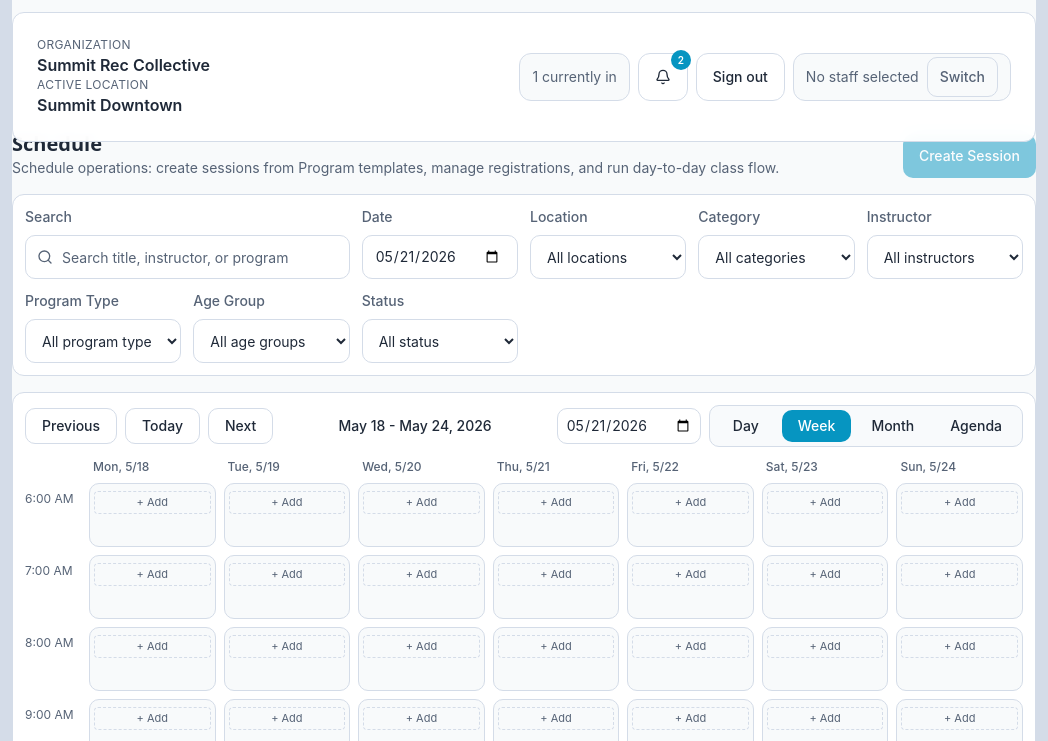
Test: Calendar interactive workstation › opens session detail from a visual block
Click the button "Agenda".
click(976, 426)  # box [934, 410, 1018, 442]
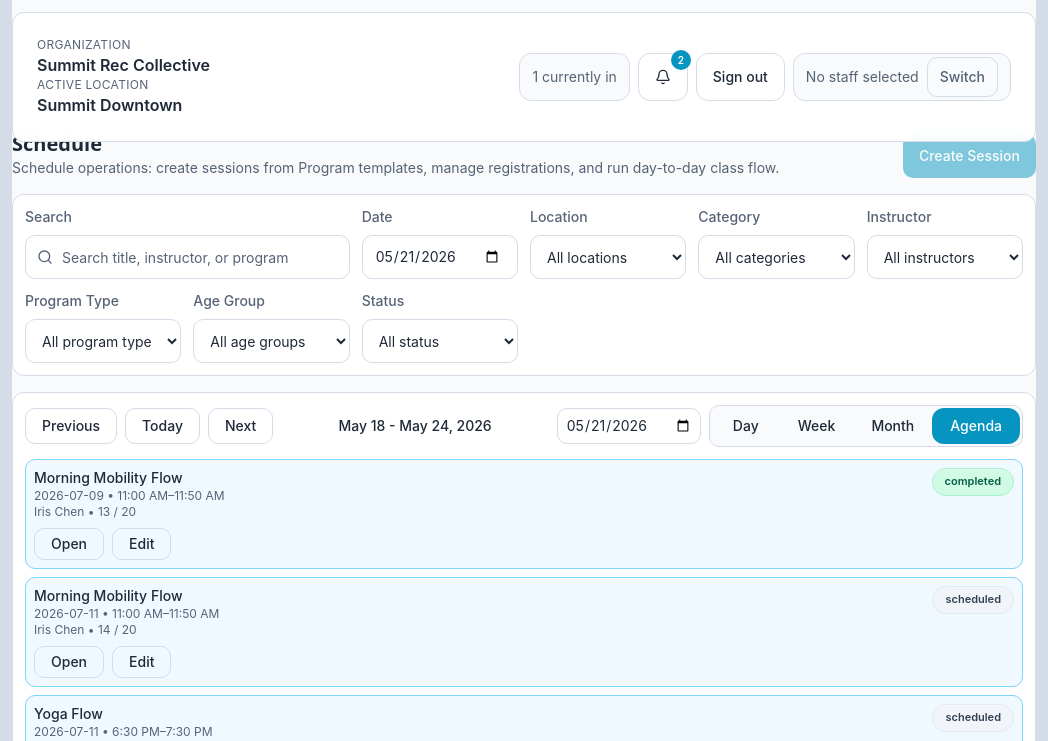
Click the button "Open" below "2026-07-09".
click(69, 544)  # box [34, 528, 104, 560]
(page scrolled)
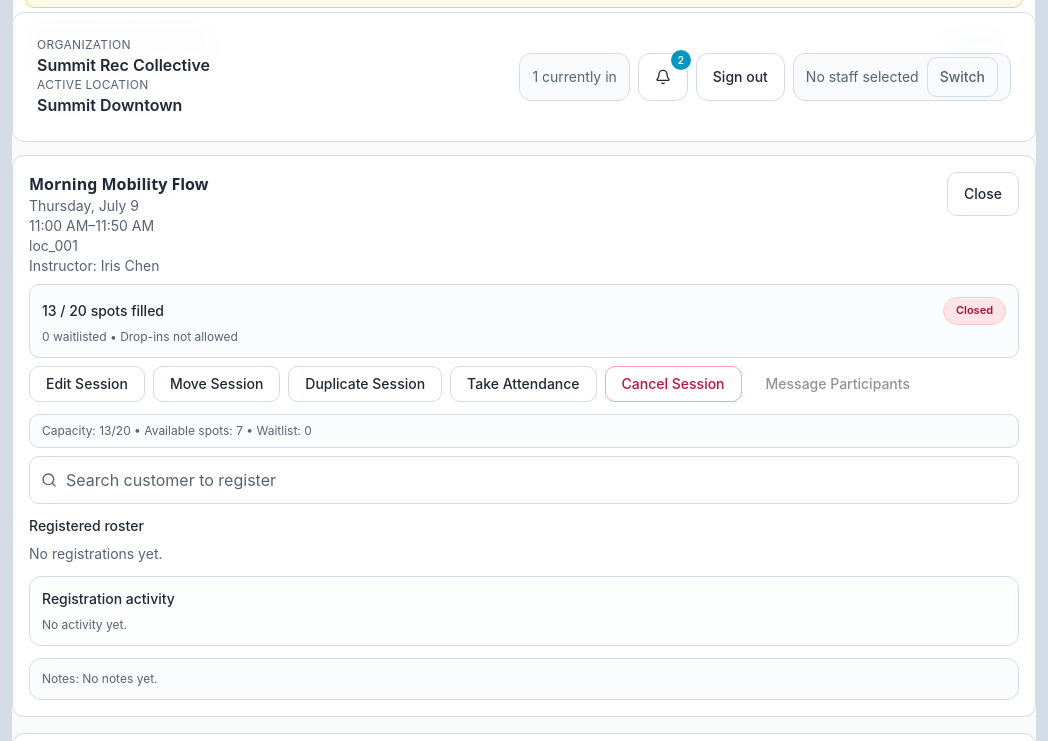
Expected: the element named "session-detail-panel" is shown
Expected: the button "Take Attendance" is shown, [450, 366, 597, 402]
